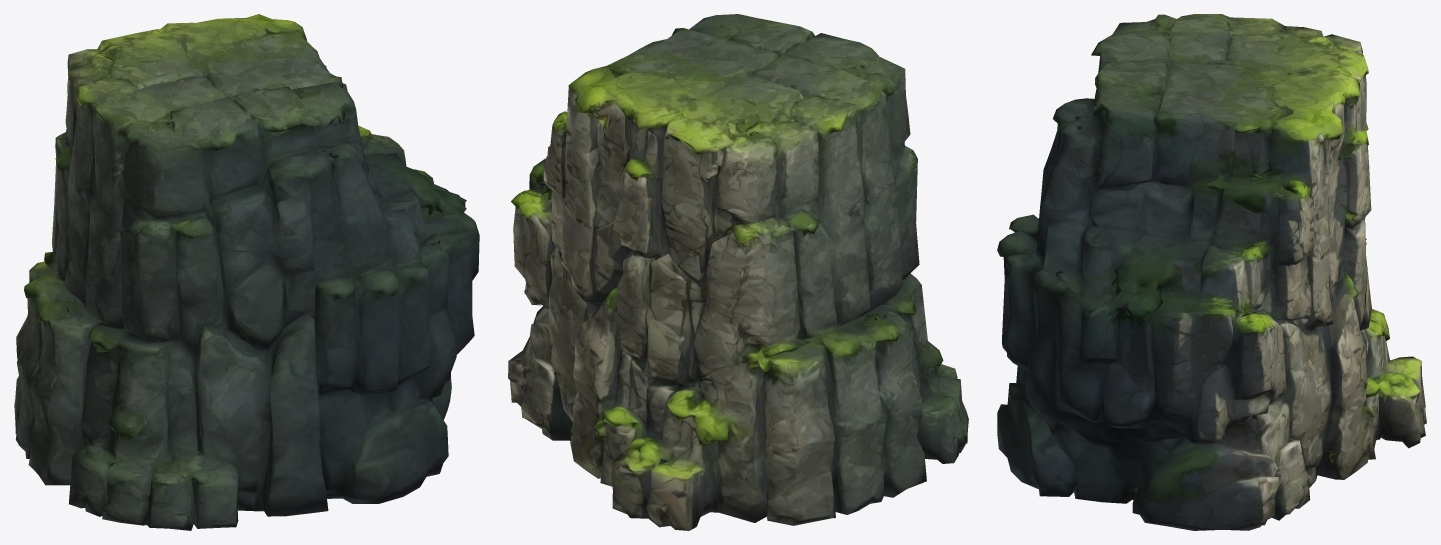
The model's file is valley-escarpment.glb.
The picture shows the model from 3 angles, left to right: view 1: azimuth 30°, elevation 25°; view 2: azimuth 150°, elevation 25°; view 3: azimuth 270°, elevation 25°; orthographic projection. The views are drawn at different scales.
Parts seen in each view (by area): view 1: tripo_node_52dc13f1-7c86-4f41-83fe-42cbb7c1491d; view 2: tripo_node_52dc13f1-7c86-4f41-83fe-42cbb7c1491d; view 3: tripo_node_52dc13f1-7c86-4f41-83fe-42cbb7c1491d.
Part boxes in pixels (x1,y1,x2,y2): tripo_node_52dc13f1-7c86-4f41-83fe-42cbb7c1491d: (14, 14, 479, 530); tripo_node_52dc13f1-7c86-4f41-83fe-42cbb7c1491d: (508, 14, 968, 530); tripo_node_52dc13f1-7c86-4f41-83fe-42cbb7c1491d: (997, 14, 1426, 530).
Bounding box in the file's own units: 1 × 0.9029 × 0.9529.
1 material, 1 textured.
